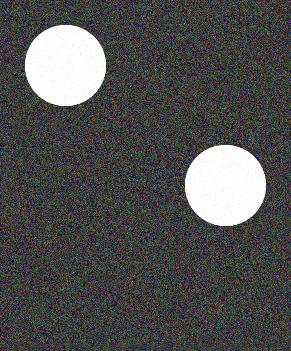E: (18, 18, 272, 333)
